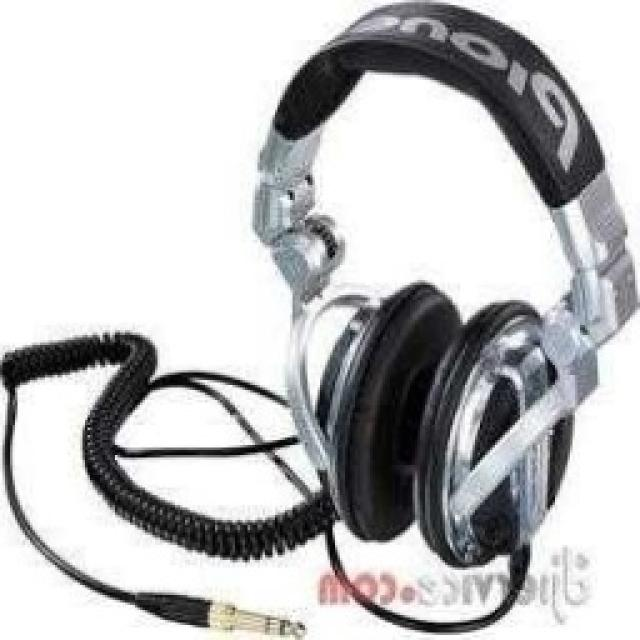headphones: (248, 0, 638, 570)
